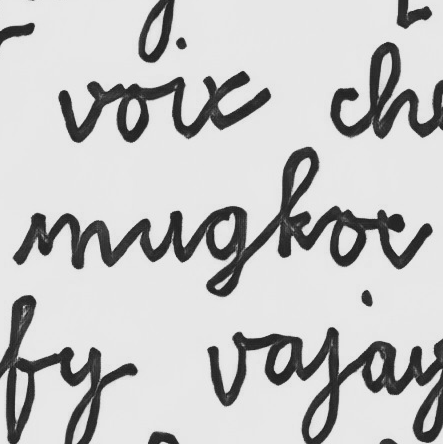g: (201, 201, 250, 298)
k: (273, 143, 322, 259)
m: (28, 209, 113, 271)
o: (327, 207, 368, 269)
u: (136, 207, 187, 265)
x: (371, 205, 410, 271)
